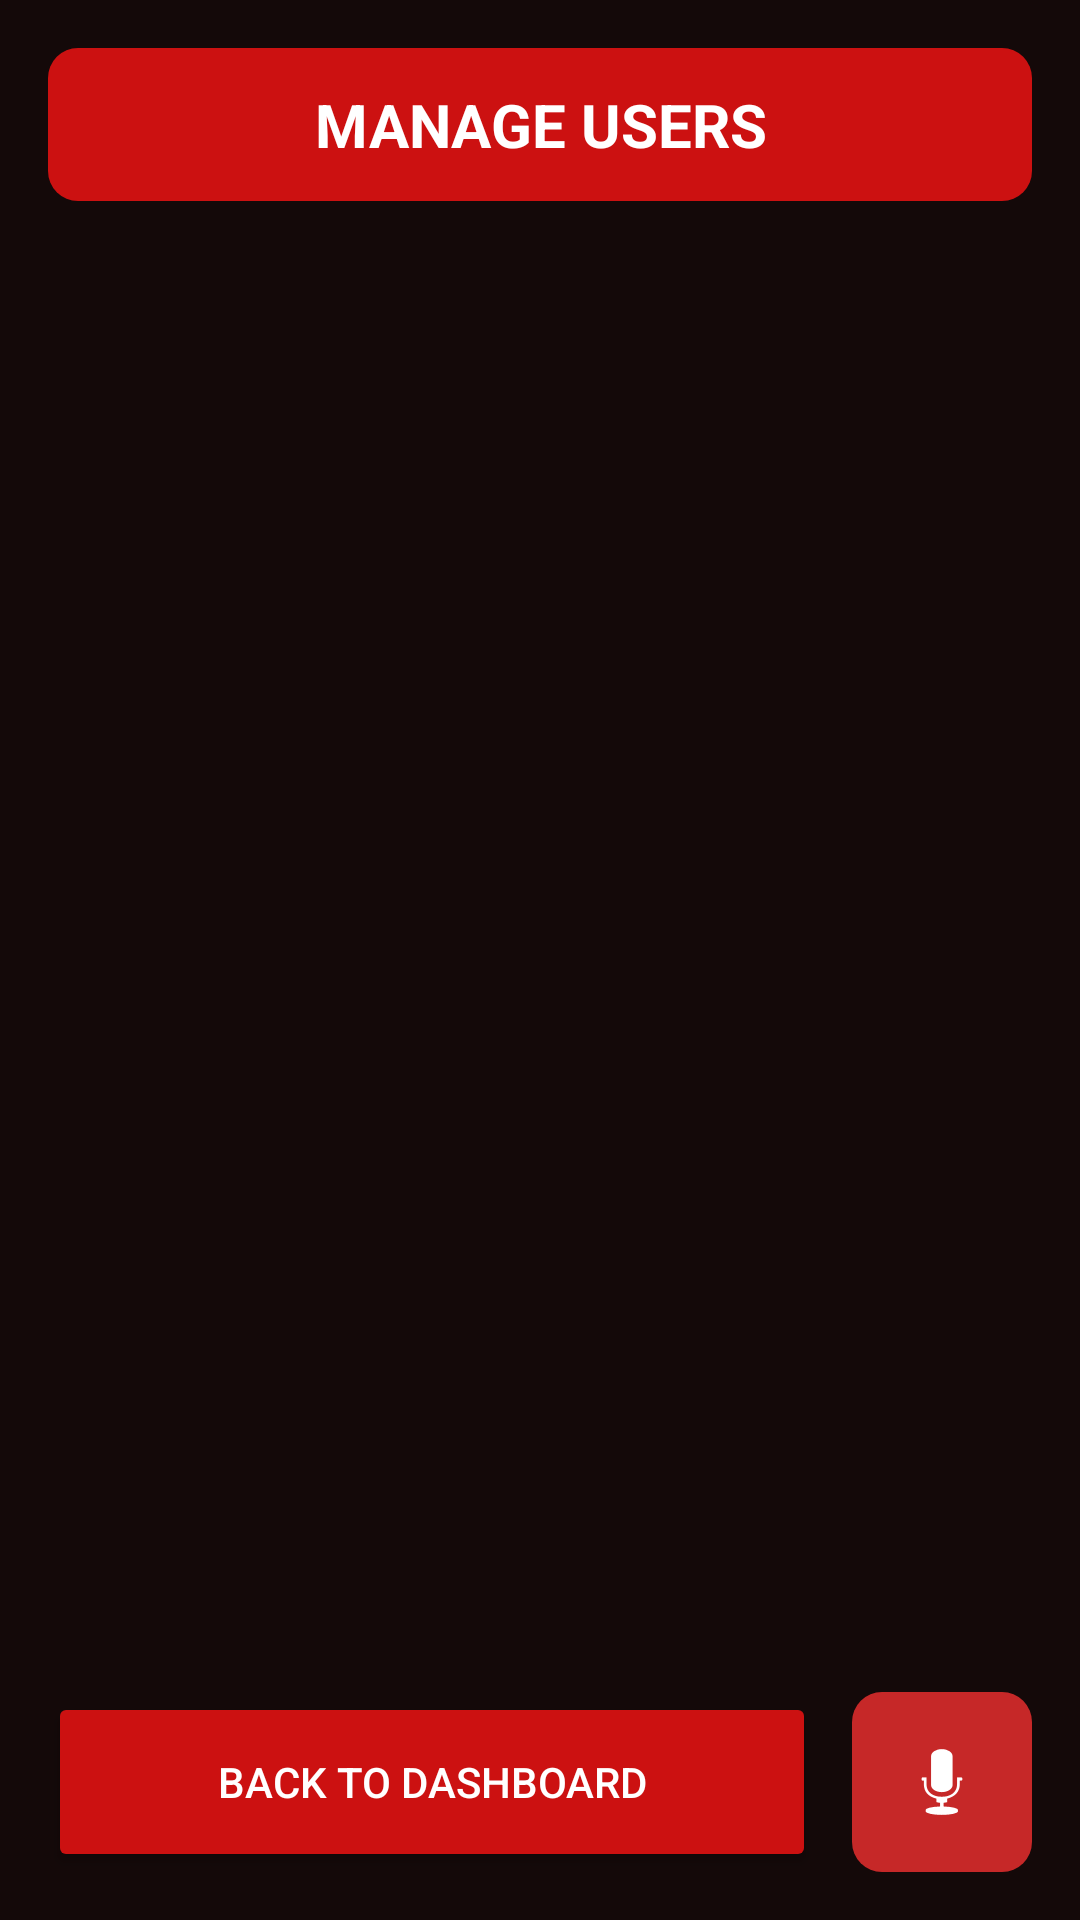

Icons on this 1080w x 1920h Android screen, each with the point to tap as (x=x, y=y):
Voice Command: (x=942, y=1782)
